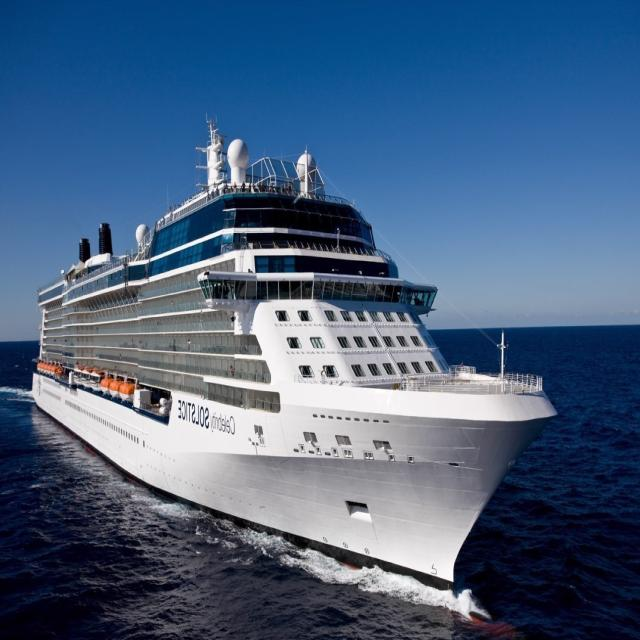passenger ship: (32, 131, 550, 584)
